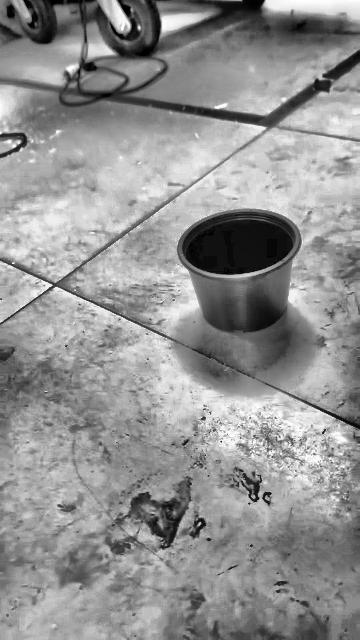pot: (177, 210, 300, 333)
